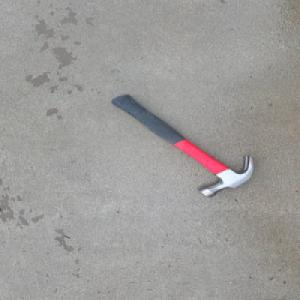Hammer: (109, 94, 256, 198)
